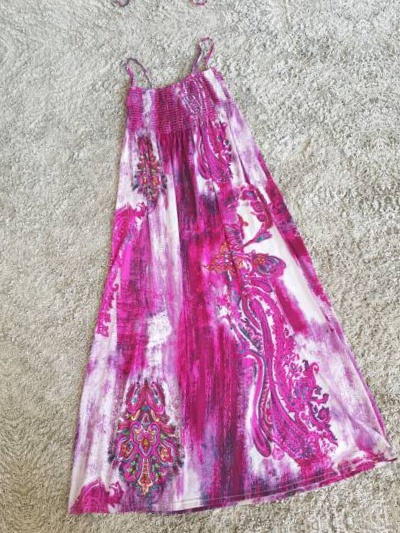Dress: (0, 22, 400, 532), (0, 0, 336, 30), (384, 0, 400, 477)
